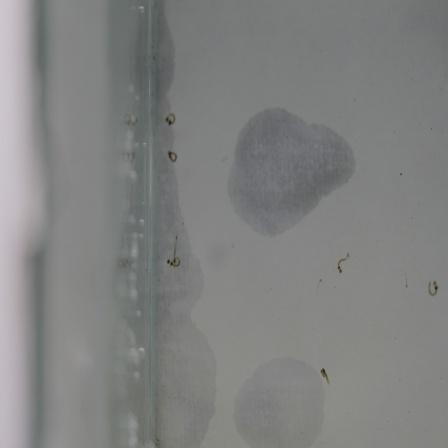Jentik-Nyamuk: (164, 234, 187, 269), (332, 249, 355, 278), (316, 362, 336, 387), (164, 145, 182, 169), (161, 109, 181, 129)
